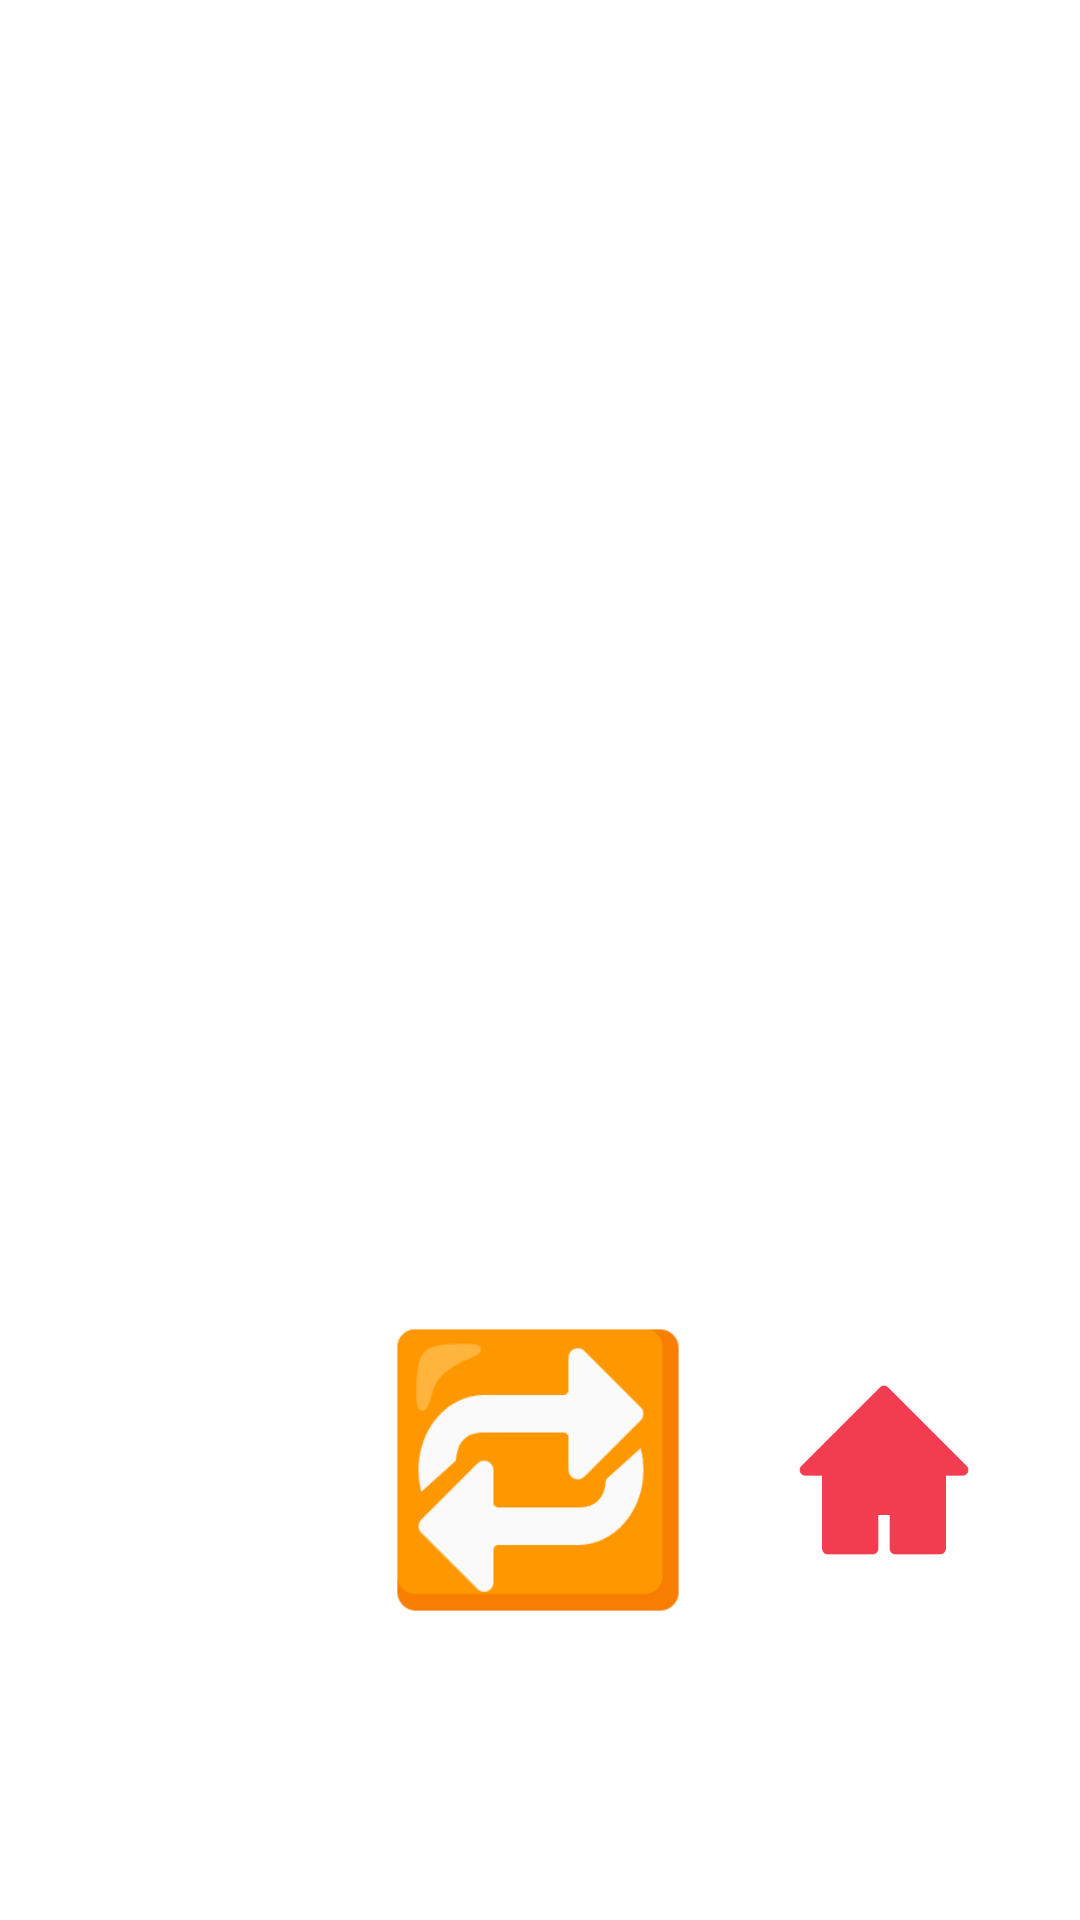

Screen size 1080w x 1920h. Icon name, then its box in pixels as (x1, y1, x2, y2):
home: (799, 1385, 969, 1555)
restart: (397, 1329, 679, 1611)
